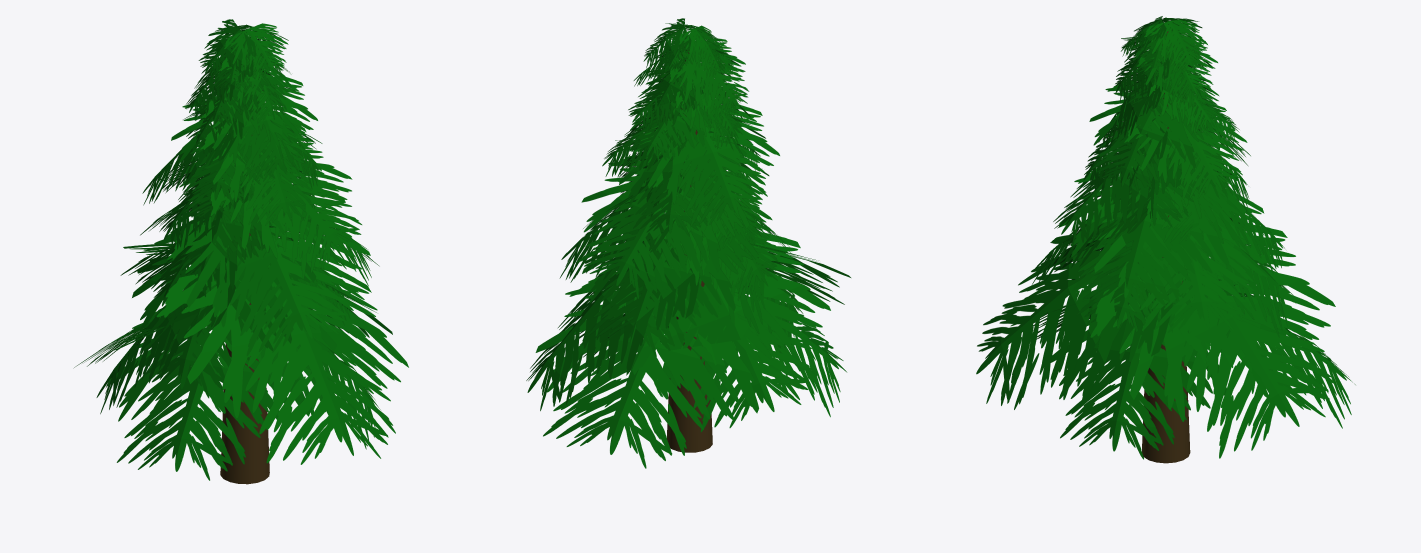
The model's file is pine-tree.glb.
3 views of the same model, side by side, from view 1: azimuth 30°, elevation 25°; view 2: azimuth 150°, elevation 25°; view 3: azimuth 270°, elevation 25° (orthographic). The views are drawn at different scales.
Parts seen in each view (by area): view 1: Cylinder; view 2: Cylinder; view 3: Cylinder.
Boxes of the visible parts, x1=… form: Cylinder: x1=73, y1=19, x2=408, y2=484; Cylinder: x1=526, y1=18, x2=850, y2=468; Cylinder: x1=976, y1=16, x2=1355, y2=463.
Size of the model in its own units: 16.82 by 19.68 by 19.23.
Materials: 2 (2 with a texture image).
